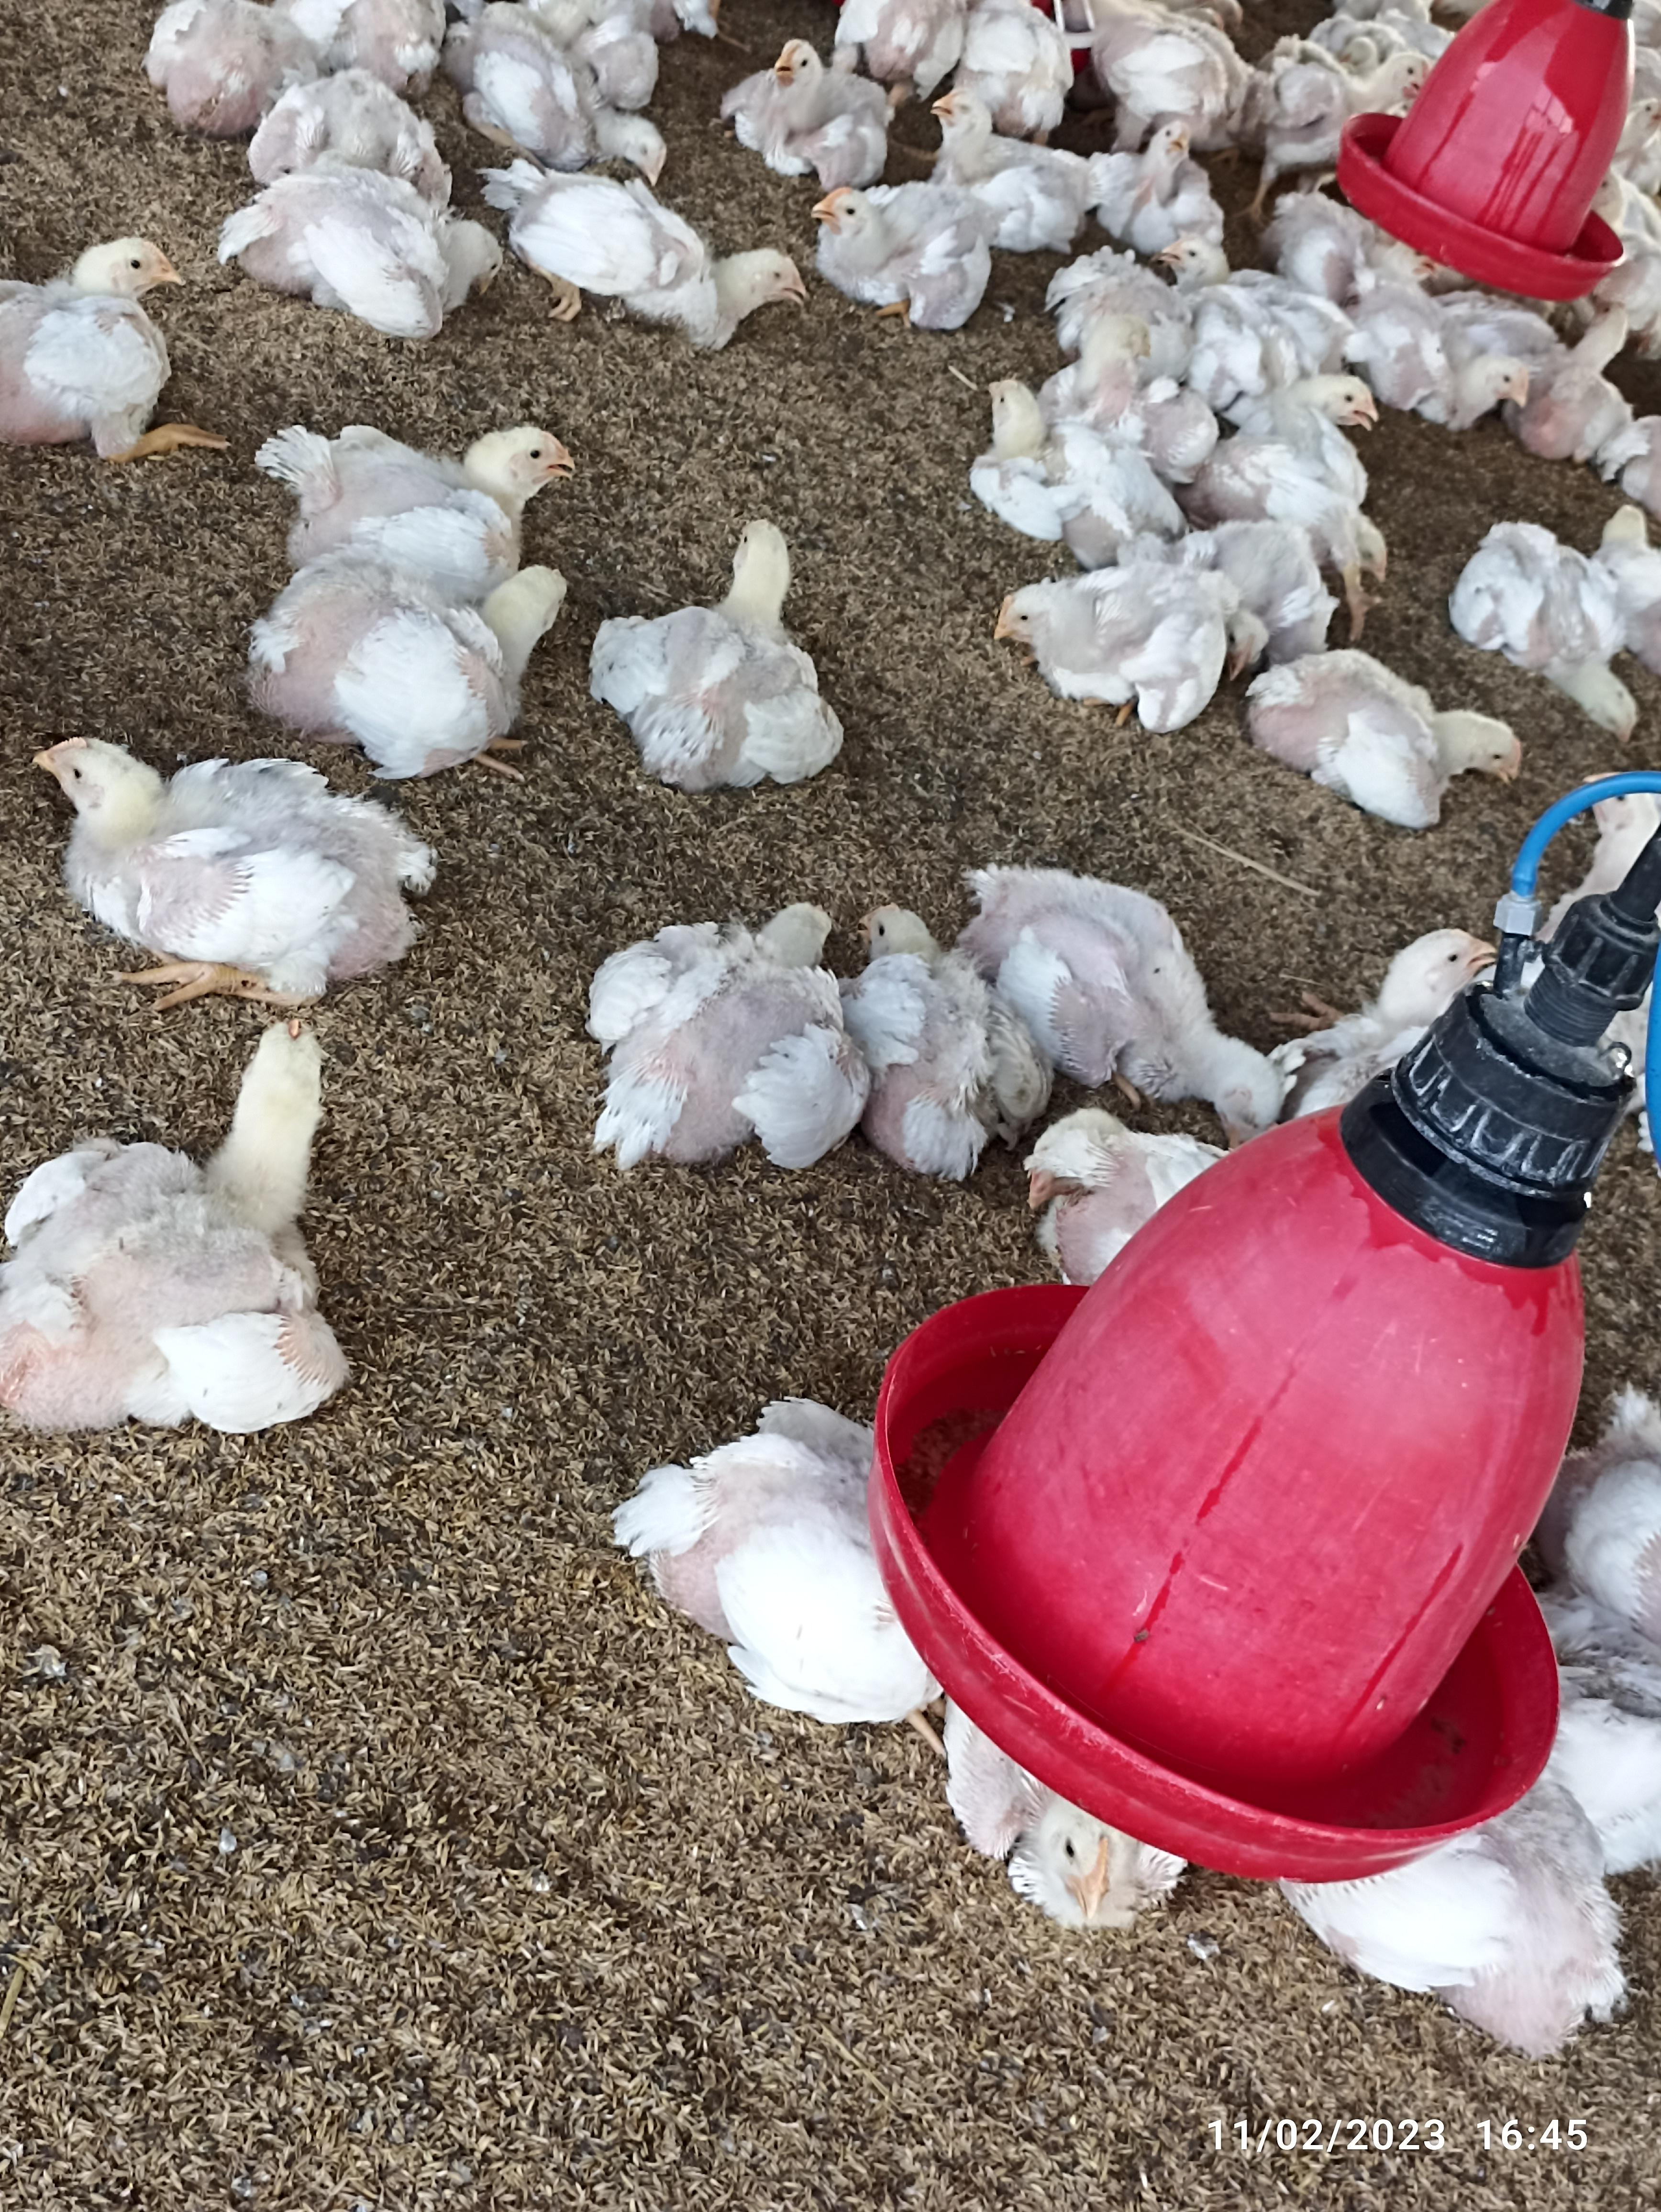Pollos: (2, 1005, 349, 1450), (31, 727, 436, 994), (993, 846, 1296, 1113), (595, 886, 848, 1174), (489, 148, 822, 354), (605, 509, 832, 759), (251, 563, 544, 745), (848, 890, 1040, 1157), (276, 408, 586, 567), (222, 169, 487, 340), (1249, 654, 1520, 816), (2, 236, 204, 438), (993, 567, 1223, 708), (919, 91, 1118, 239), (825, 185, 1000, 330), (970, 368, 1118, 532), (724, 33, 883, 162), (1223, 365, 1378, 495)
